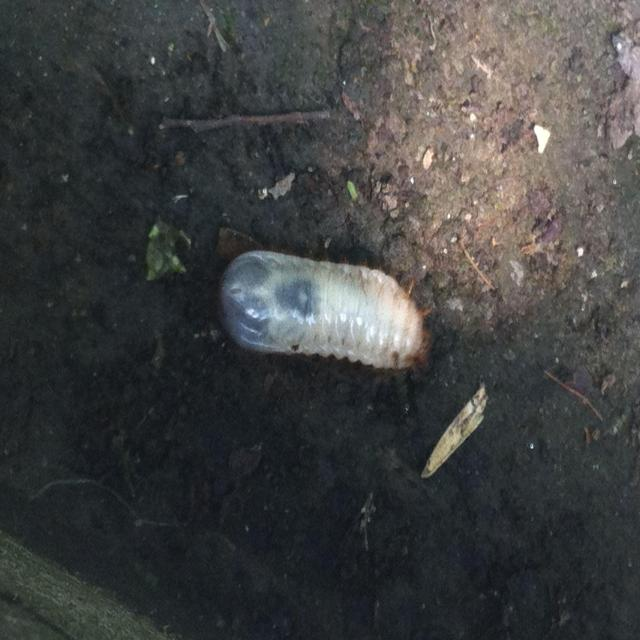grub: (216, 245, 438, 384)
